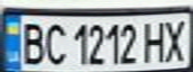1: (66, 20, 90, 66), (103, 20, 124, 65)
2: (118, 20, 142, 65), (87, 20, 106, 66)
B: (15, 18, 48, 66)
C: (42, 19, 69, 66)
H: (139, 17, 172, 64)
X: (160, 16, 193, 63)
